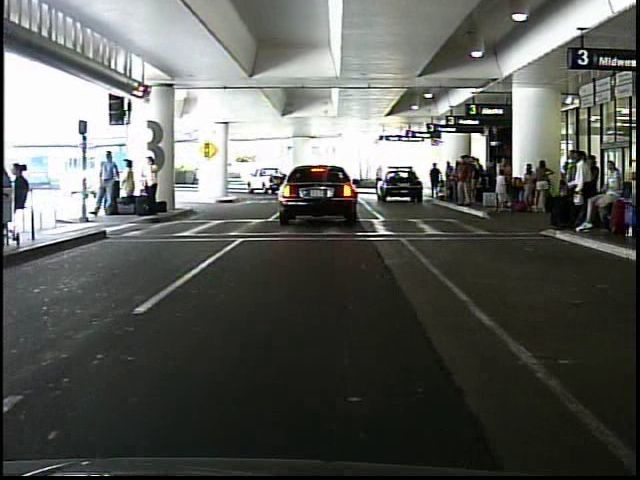person: (92, 149, 123, 222), (143, 153, 161, 217), (120, 158, 140, 211), (429, 162, 443, 201)
